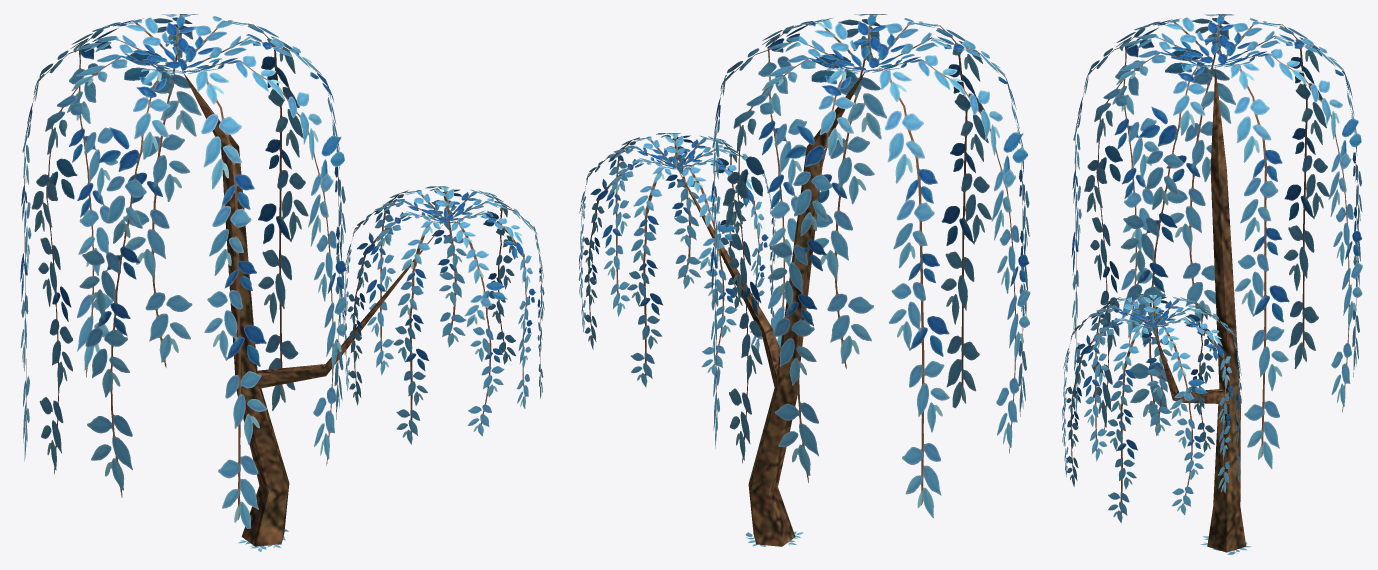
The model's file is bluetree.fbx.
3 views of the same model, side by side, from view 1: azimuth 30°, elevation 25°; view 2: azimuth 150°, elevation 25°; view 3: azimuth 270°, elevation 25° (orthographic). The views are drawn at different scales.
Parts seen in each view (by area): view 1: pPlane10; view 2: pPlane10; view 3: pPlane10.
Part boxes in pixels (left/top/right/bottom): pPlane10: left=20, top=14, right=544, bottom=551; pPlane10: left=578, top=14, right=1030, bottom=546; pPlane10: left=1062, top=14, right=1362, bottom=554.
Size of the model in its own units: 26.93 by 29.27 by 17.37.
Materials: 1 (1 with a texture image).
